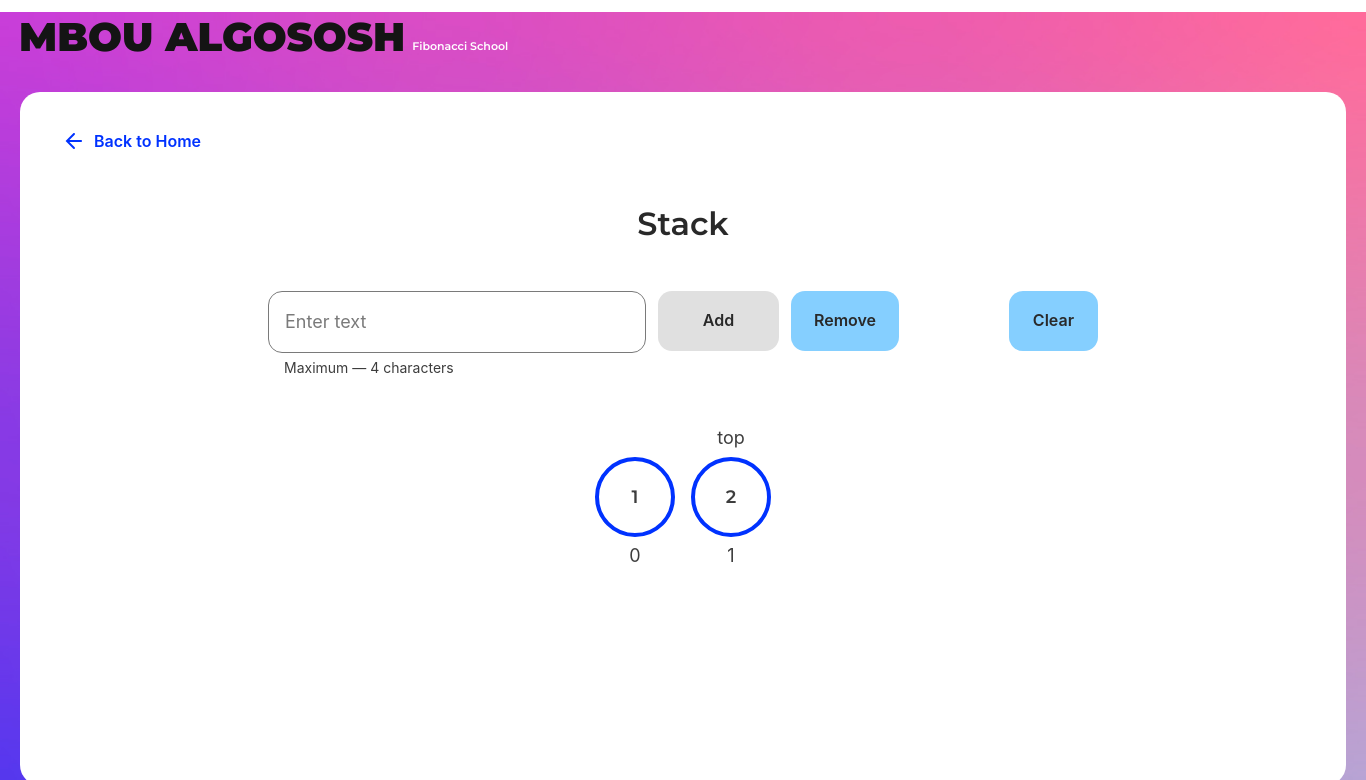
Testing Stack Functionality › Removing an element from the Stack works correctly
Step 1. Click the button with test id "deleteBtn" → (845, 321), box [791, 291, 899, 351]
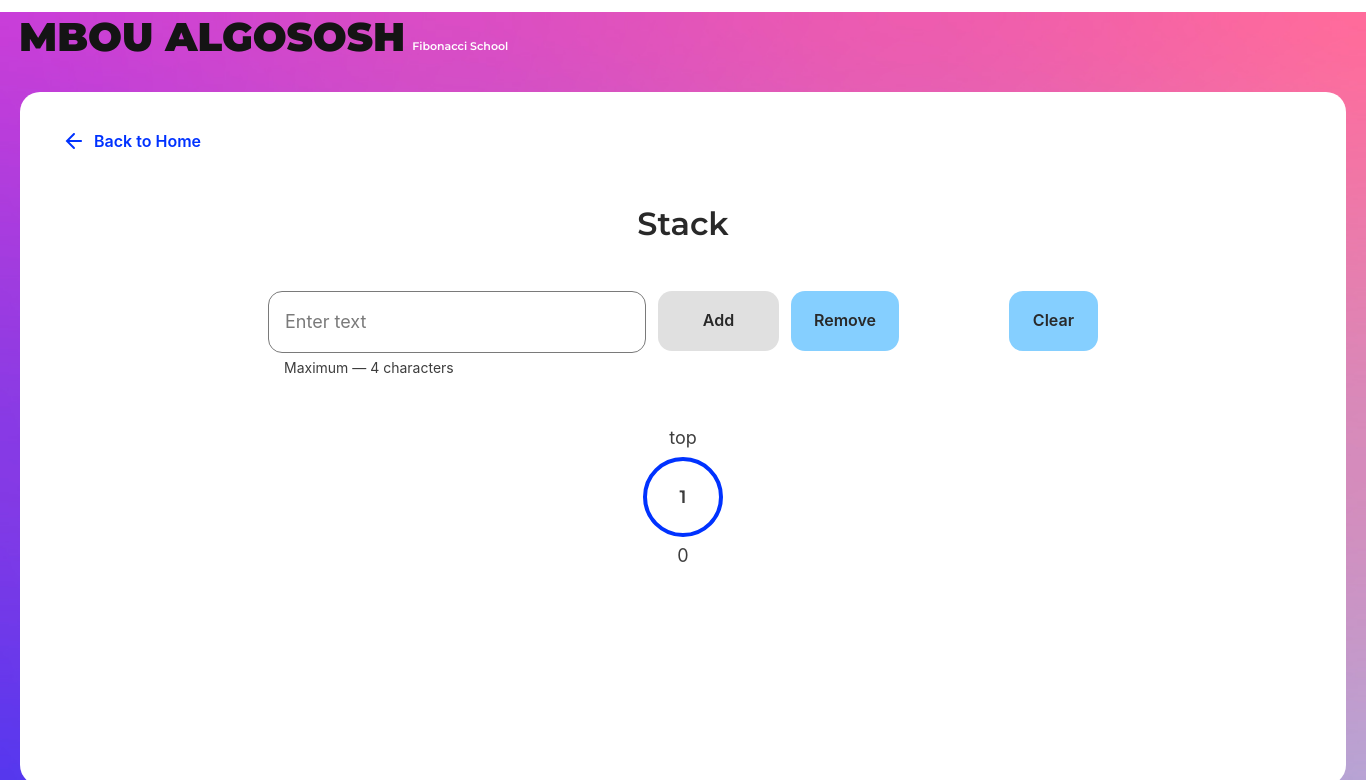
Expected: the text with test id "circle" reads "1", [680, 486, 687, 508]
Expected: the number of elements with test id "circle" is 1, [643, 457, 723, 537]
